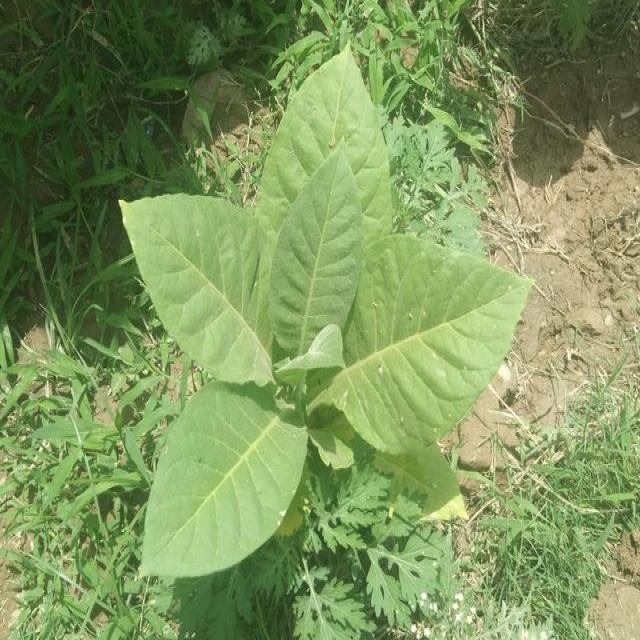crop: (112, 49, 531, 590)
